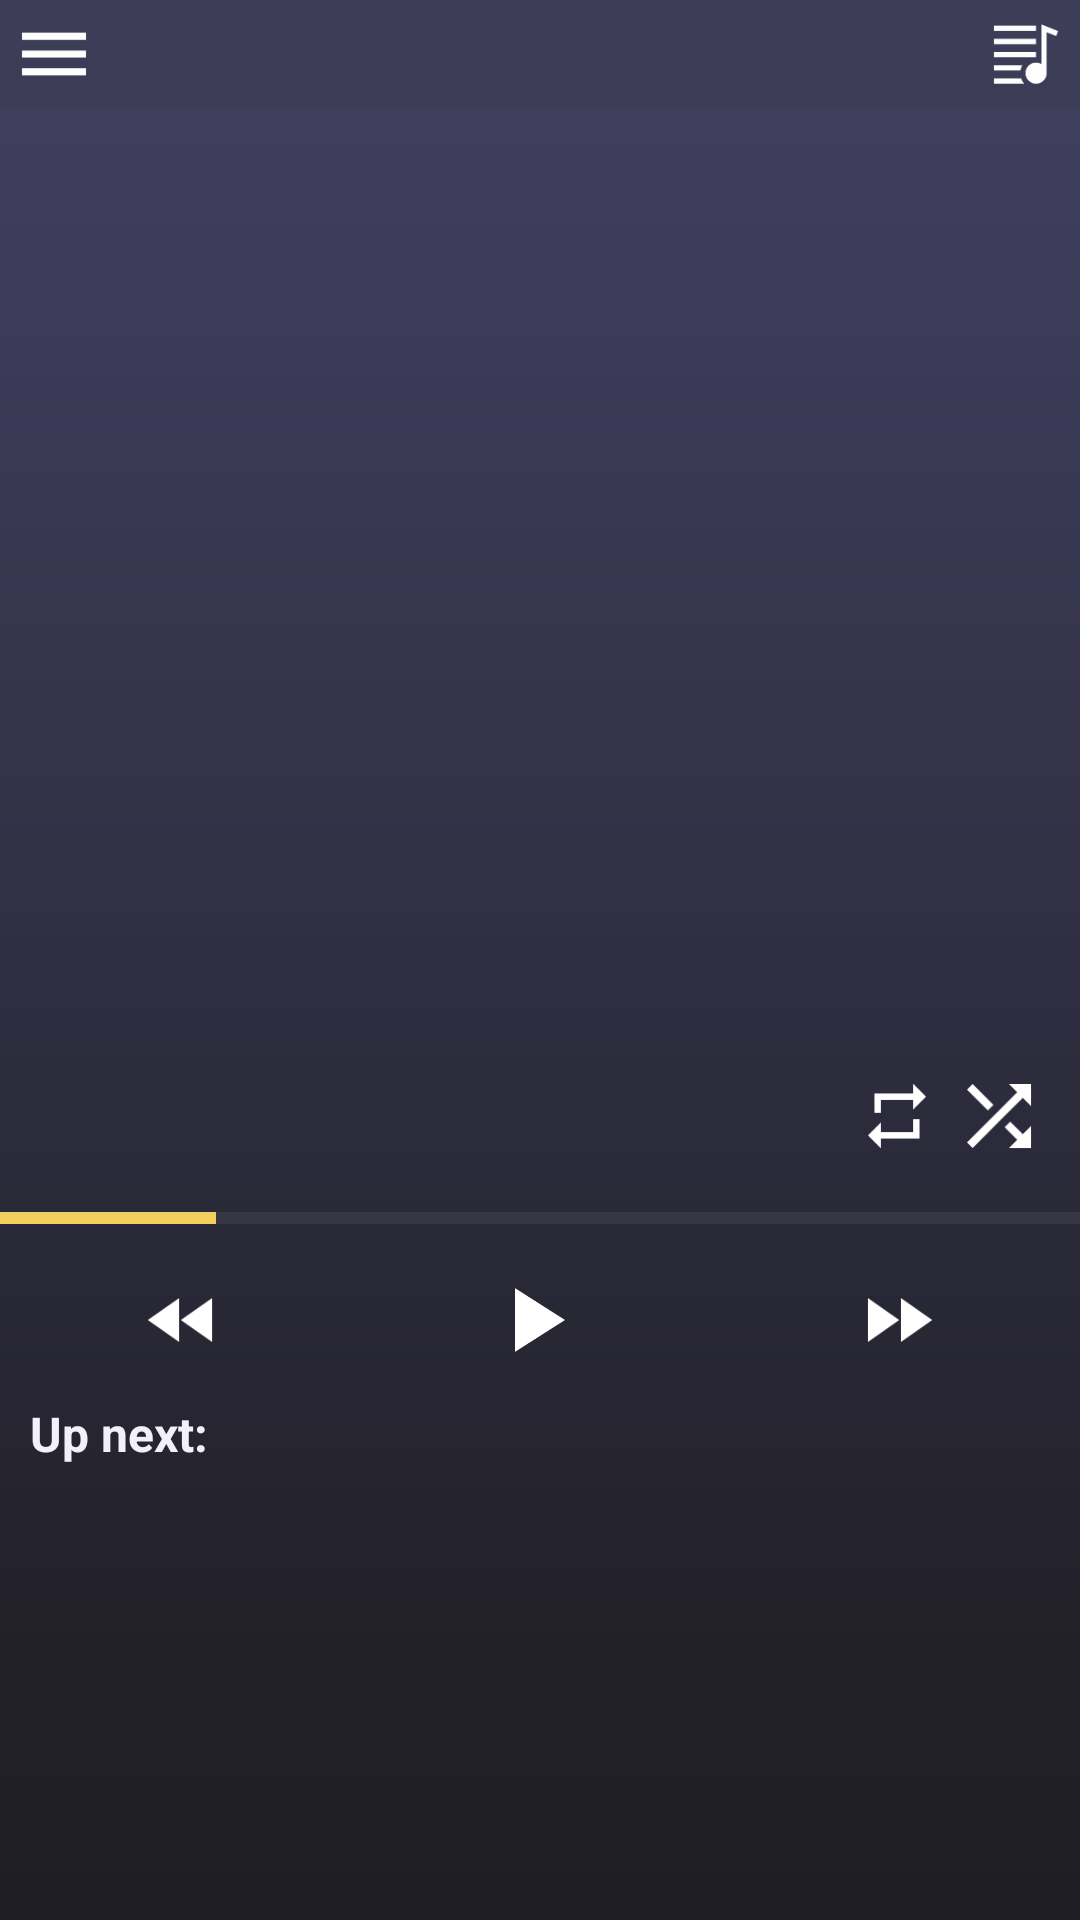

Point at icon controls on the screen. Image size 1080px×1920px, points as point (x, y).
fast forward: point (900, 1320)
fast rewind: point (180, 1320)
menu: point (54, 54)
play arrow: point (540, 1320)
playlist: point (1026, 54)
repeat: point (897, 1116)
shuffle: point (999, 1116)
